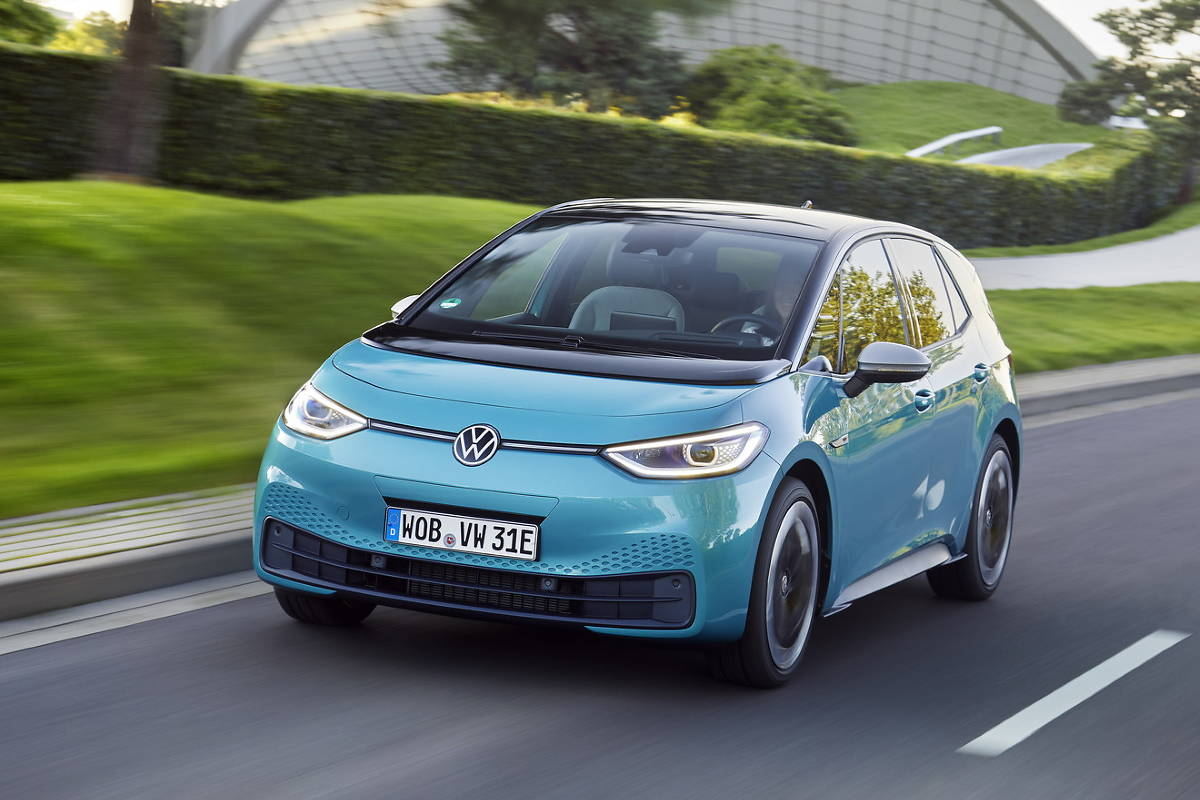tablica: (386, 510, 539, 555)
